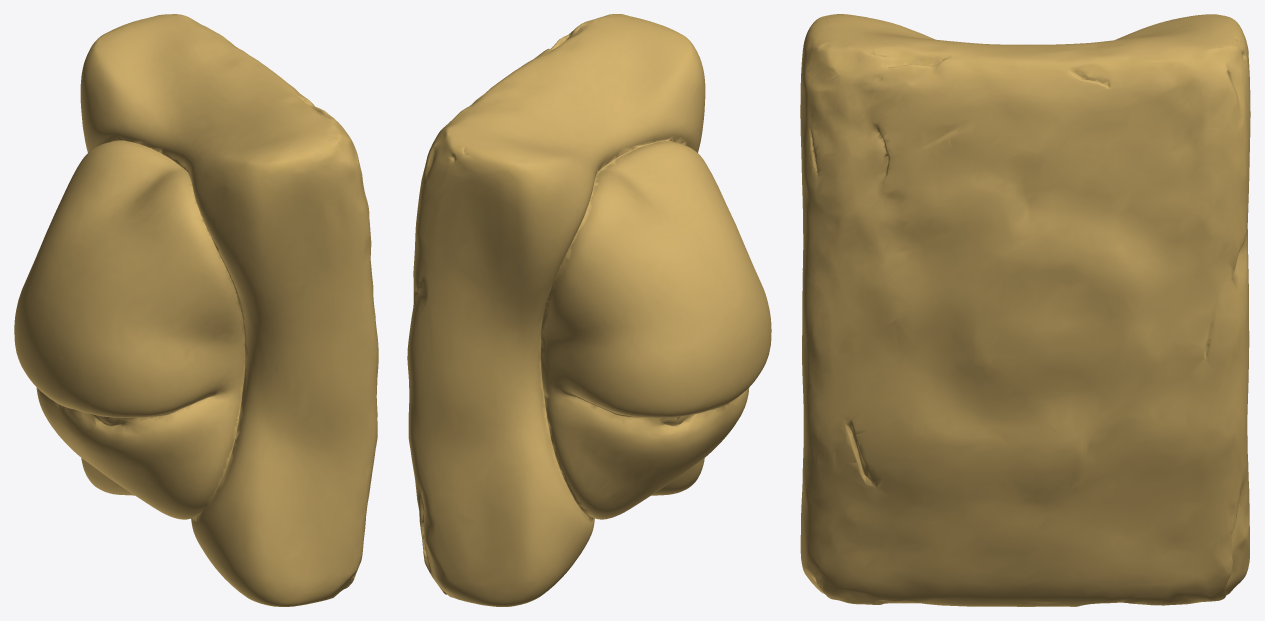
File: KR_사물_s1_wall_hwangto_old.glb
3 views of the same model, side by side, from view 1: azimuth 30°, elevation 25°; view 2: azimuth 150°, elevation 25°; view 3: azimuth 270°, elevation 25° (orthographic). The views are drawn at different scales.
Visible parts, largest first — view 1: tripo_node_0a0e66fc-06c4-4907-90f3-550f3d0f051a; view 2: tripo_node_0a0e66fc-06c4-4907-90f3-550f3d0f051a; view 3: tripo_node_0a0e66fc-06c4-4907-90f3-550f3d0f051a.
Part boxes in pixels (x1,y1,x2,y2): tripo_node_0a0e66fc-06c4-4907-90f3-550f3d0f051a: [14, 14, 378, 606]; tripo_node_0a0e66fc-06c4-4907-90f3-550f3d0f051a: [407, 14, 771, 606]; tripo_node_0a0e66fc-06c4-4907-90f3-550f3d0f051a: [800, 14, 1250, 606].
Size of the model in its own units: 0.6173 by 1 by 0.7349.
Materials: 1 (1 with a texture image).
